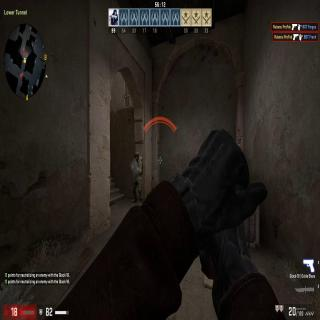CT-Body: (131, 148, 143, 204)
CT-Head: (134, 151, 138, 159)
